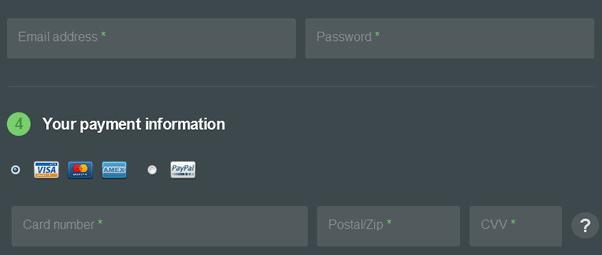field: (9, 204, 310, 249), (6, 17, 298, 61), (305, 16, 595, 60), (317, 204, 462, 249), (467, 204, 561, 247)
